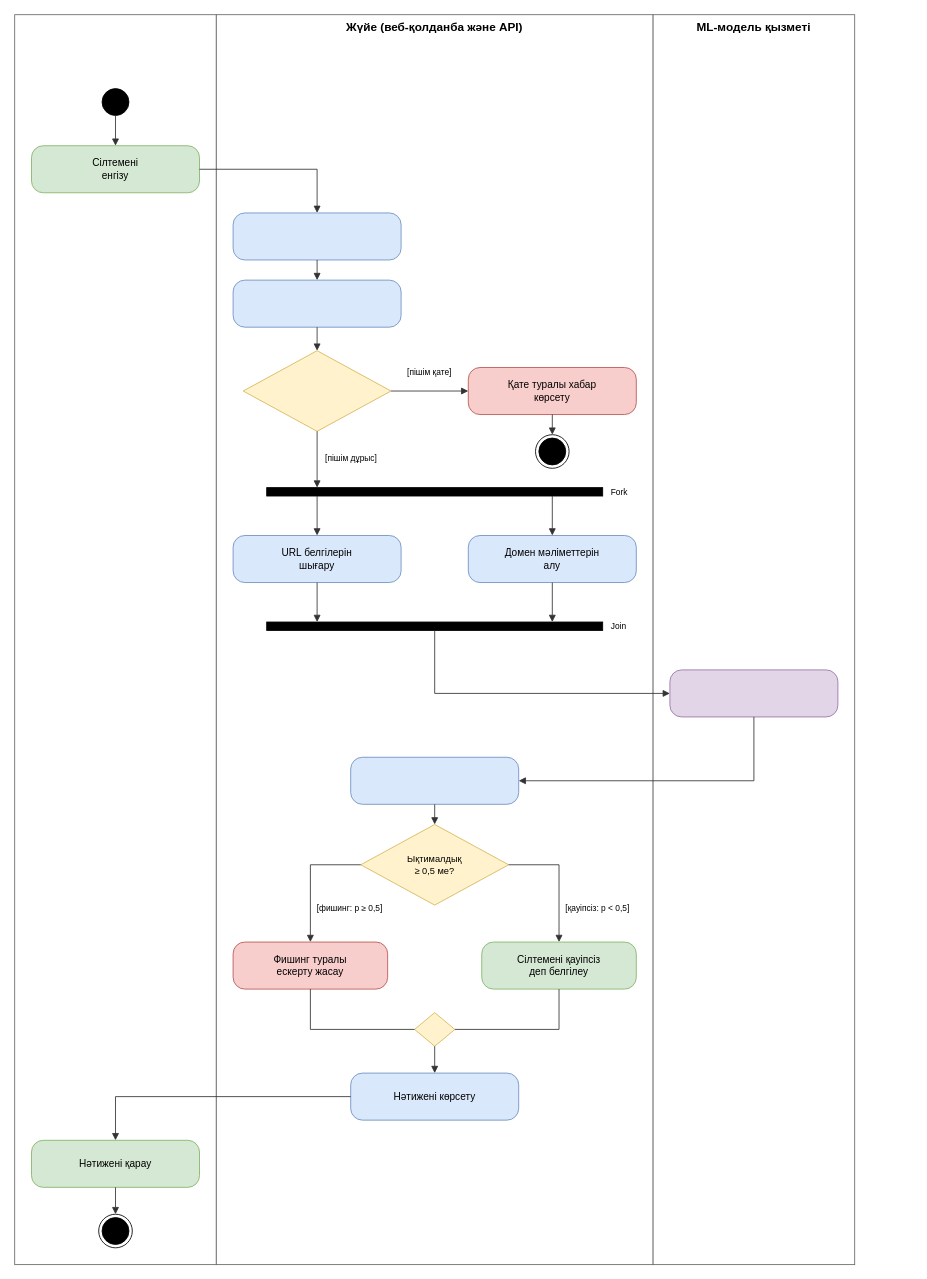
This 927x1279 diagram has some shape labels left out. Each missing label, with the box of its shape:
Нәтижені деректер базасына сақтау: (350, 756, 519, 804)
Пайдаланушы: (14, 14, 216, 1265)
Пішім дұрыс па?: (242, 350, 391, 431)
Сілтеме пішімін тексеру: (232, 279, 401, 327)
Сілтемені қабылдау: (232, 212, 401, 260)
Фишинг ықтималдығын есептеу: (669, 669, 838, 717)
